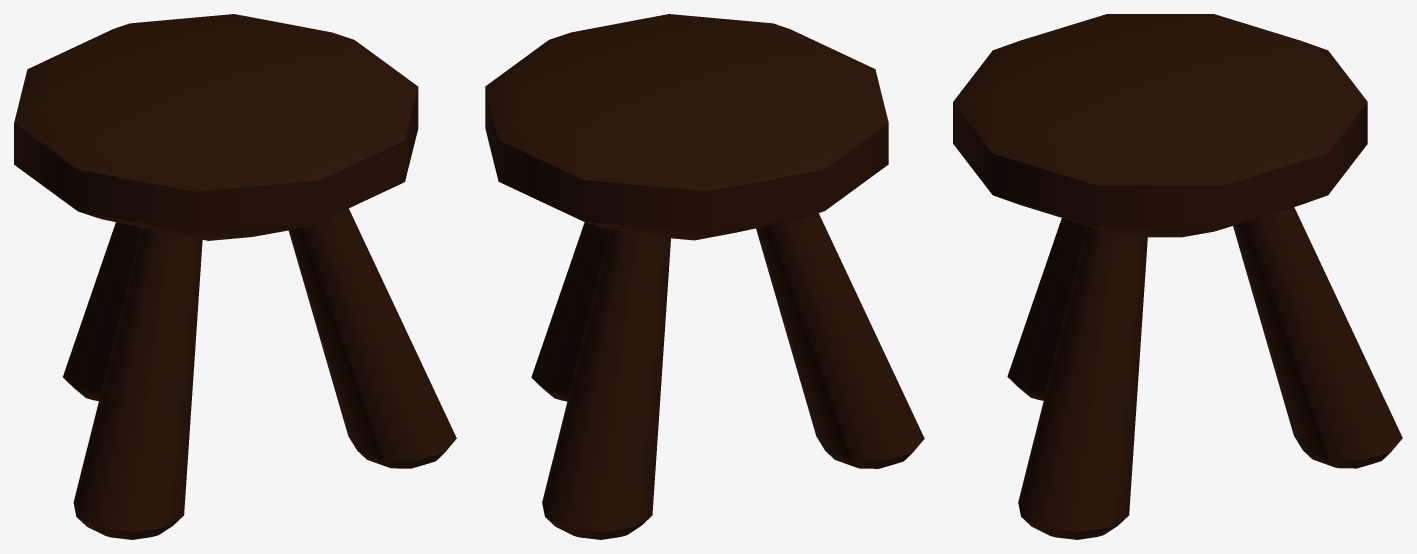
Rendered from woodernStool.fbx.
3 renders of one model, left to right at view 1: azimuth 30°, elevation 25°; view 2: azimuth 150°, elevation 25°; view 3: azimuth 270°, elevation 25°, orthographic.
Visible parts, largest first — view 1: Mesh; view 2: Mesh; view 3: Mesh.
Boxes of the visible parts, x1,y1,x2,y2 form: Mesh: (14, 14, 456, 539); Mesh: (485, 14, 924, 539); Mesh: (953, 14, 1402, 539).
Bounding box in the file's own units: 52.61 × 49.87 × 54.62.
